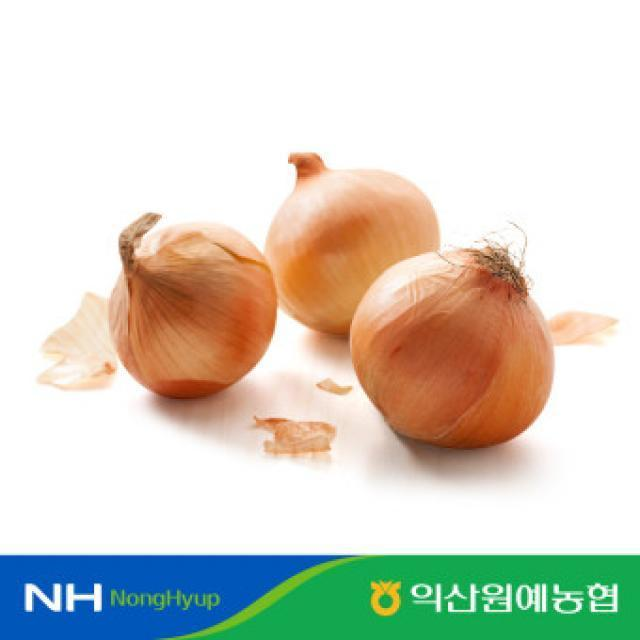onion: (354, 240, 564, 460), (96, 186, 277, 402), (275, 140, 423, 290)
